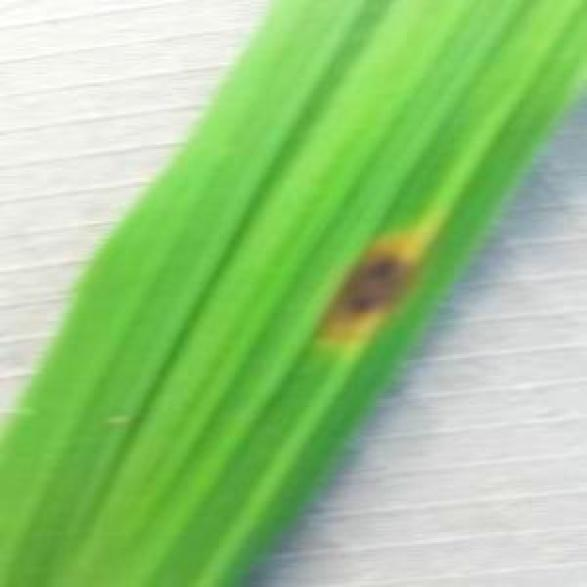Brown_Spot: (300, 219, 445, 360)
